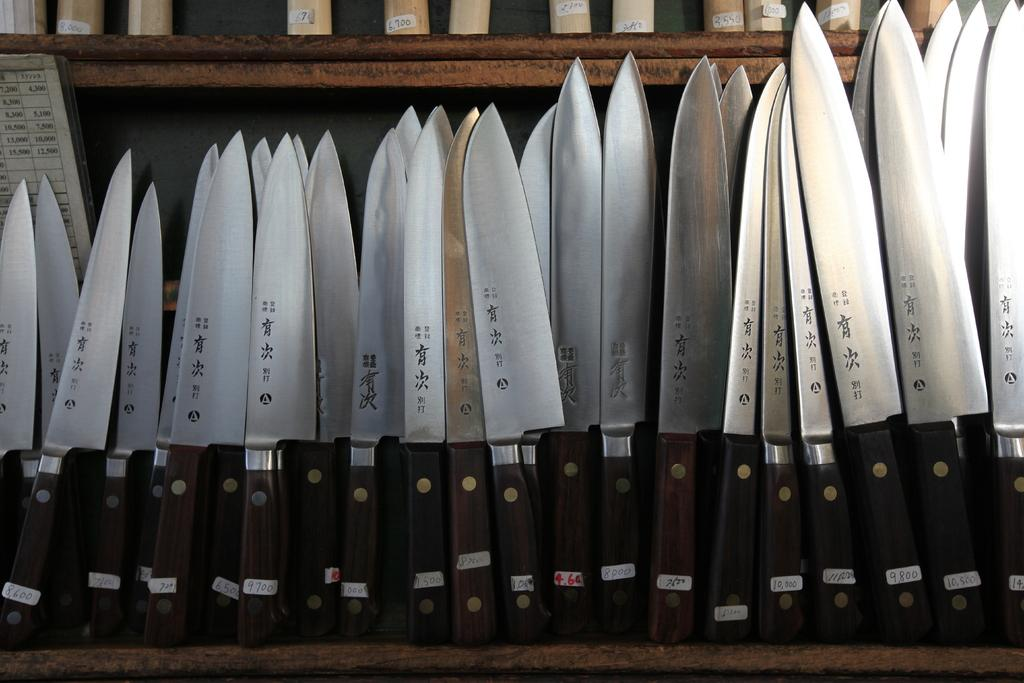knife: (1, 1, 1023, 650)
